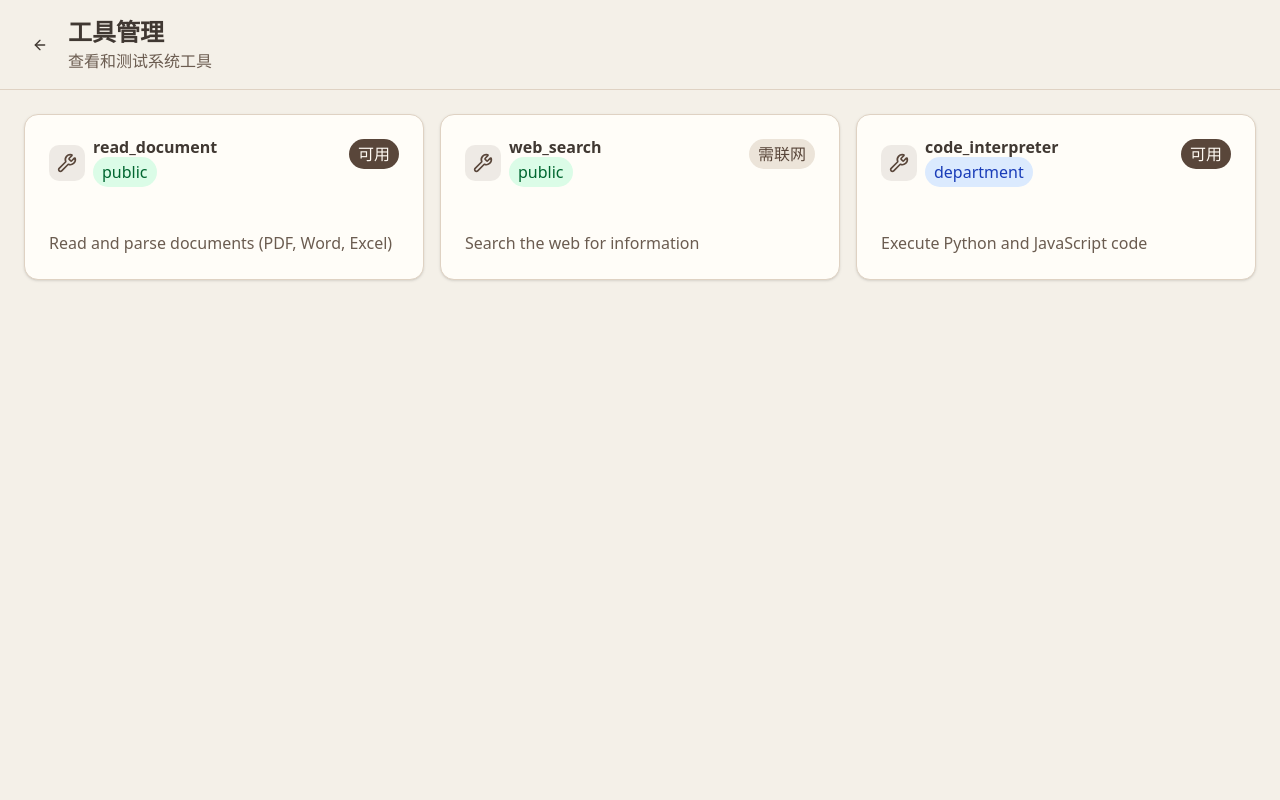
Test: ToolsPage › opens detail dialog when clicking a tool card
Expected: the element with test id "tool-list" is shown, [24,114,1256,280]
Click the element with test id "tool-card" at (224, 197), box [24,114,424,280]
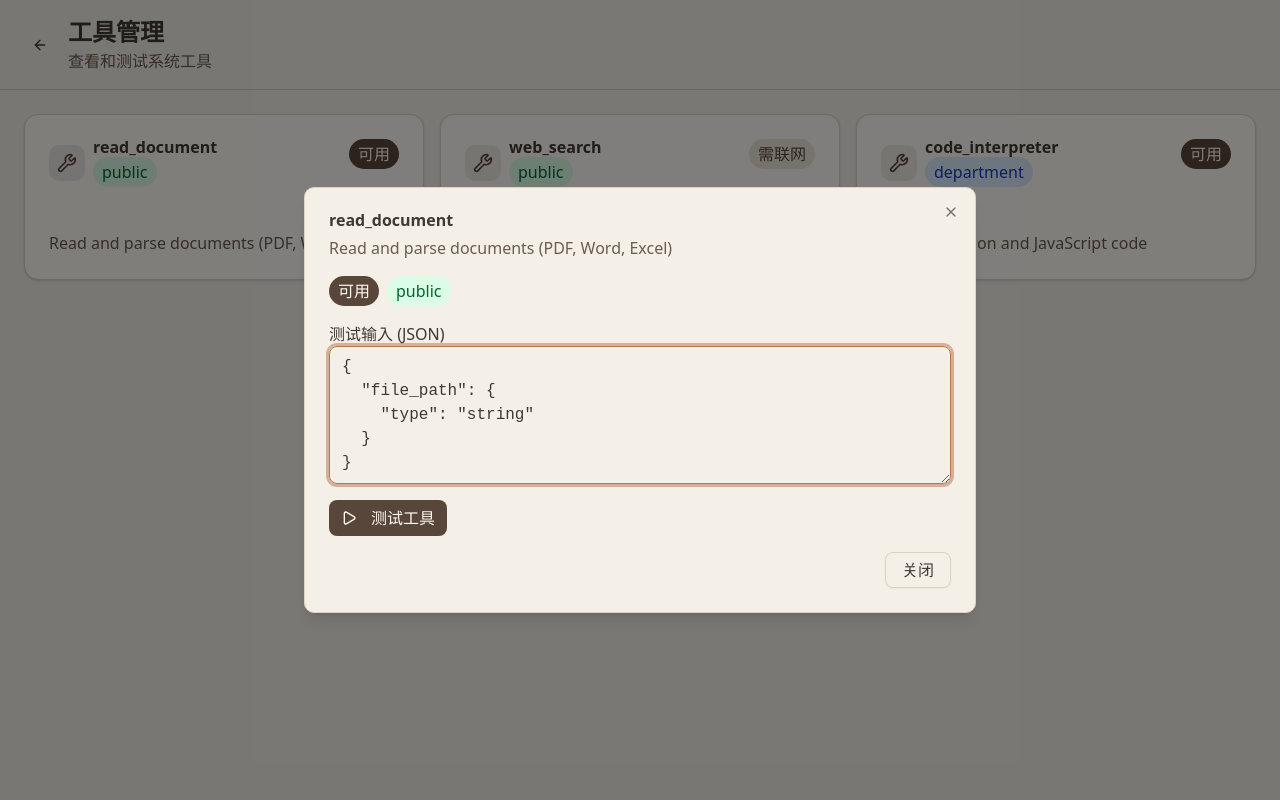
Now the text "测试输入 (JSON)" is shown, box [329,323,445,345]
Now the button "测试工具" is shown, box [329,500,447,536]
